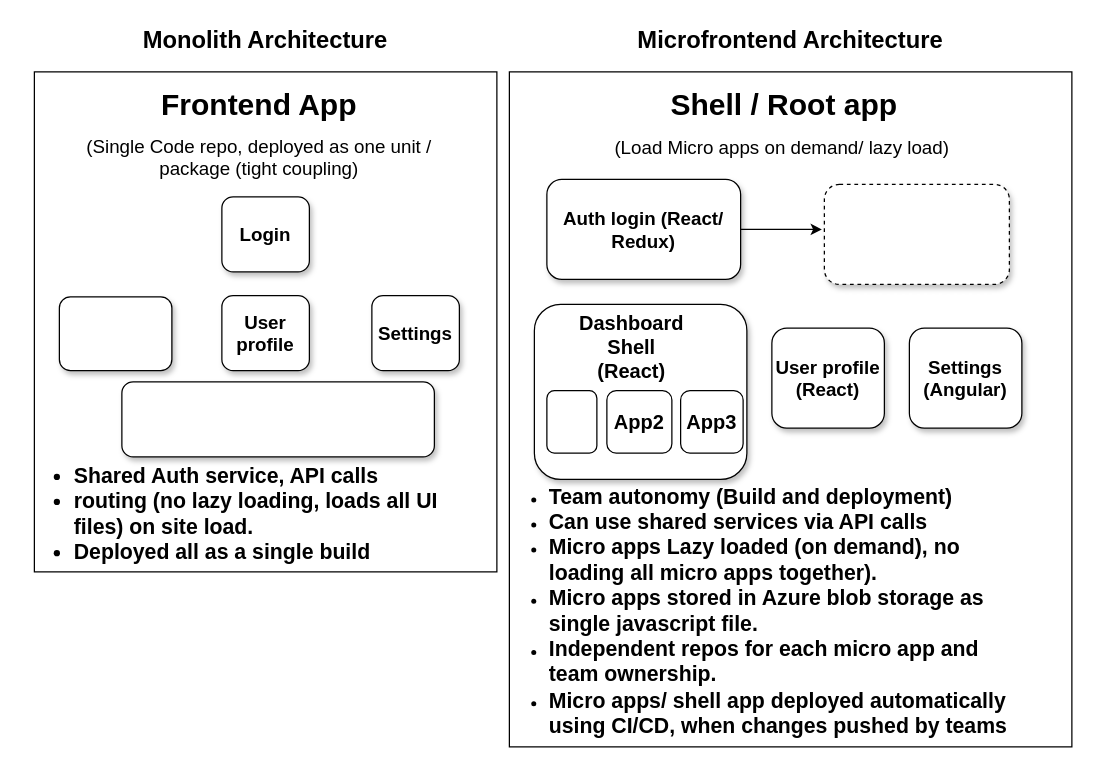
The diagram is 1094 pixels wide and 775 high, and some of its shapes have lost their labels. The centre of each missing label's shape, as x and y in pixels:
"App 1" belongs at point 571,421.
"Backend and Database not in scope" belongs at point 279,421.
"Dashboard" belongs at point 116,335.
"Mock Auth API (node.js- for demo only to simulate login)" belongs at point 917,235.
